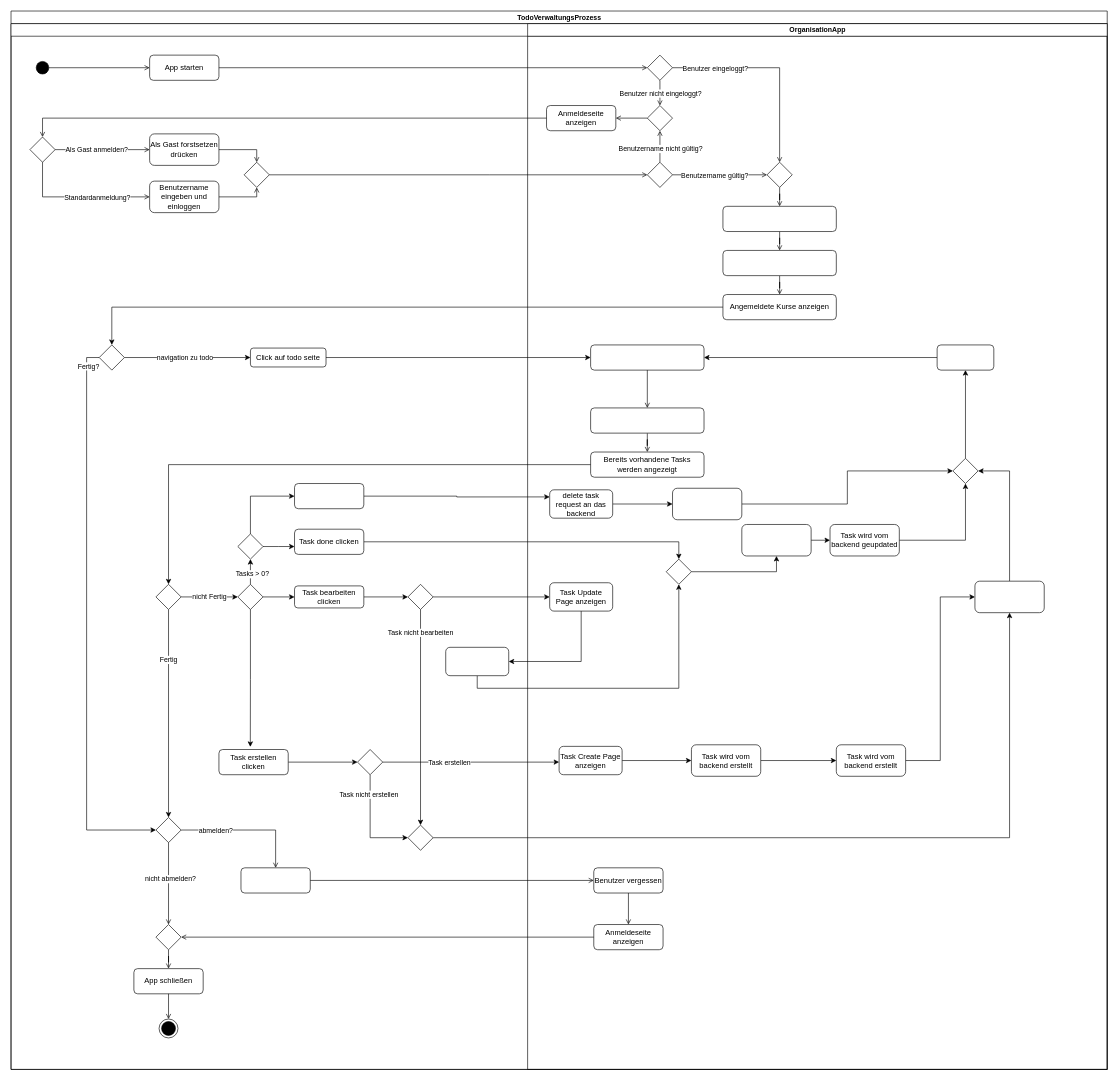
The diagram is 1118 pixels wide and 1080 high, and some of its shapes have lost their labels. Each missing label, with the box of its shape:
Abmelden klicken: (240, 867, 310, 893)
Backend liefert alle Kurse für den Benutzer: (722, 250, 836, 276)
Backend liefert alle Tasks für den Benutzer: (590, 407, 704, 433)
Request von allen Kursen für den Benutzer an Backend stellen: (722, 206, 836, 232)
Request von allen Tasksfür den Benutzer an Backend stellen: (590, 344, 704, 370)
Task informationen updaten: (445, 647, 509, 676)
Task liste neu sortieren: (936, 344, 994, 370)
Task löschen: (294, 483, 364, 509)
Task wird vom backend gelöscht: (672, 488, 742, 520)
Update Task request ans backend: (741, 524, 811, 556)
zurück auf todo page: (974, 581, 1044, 613)
